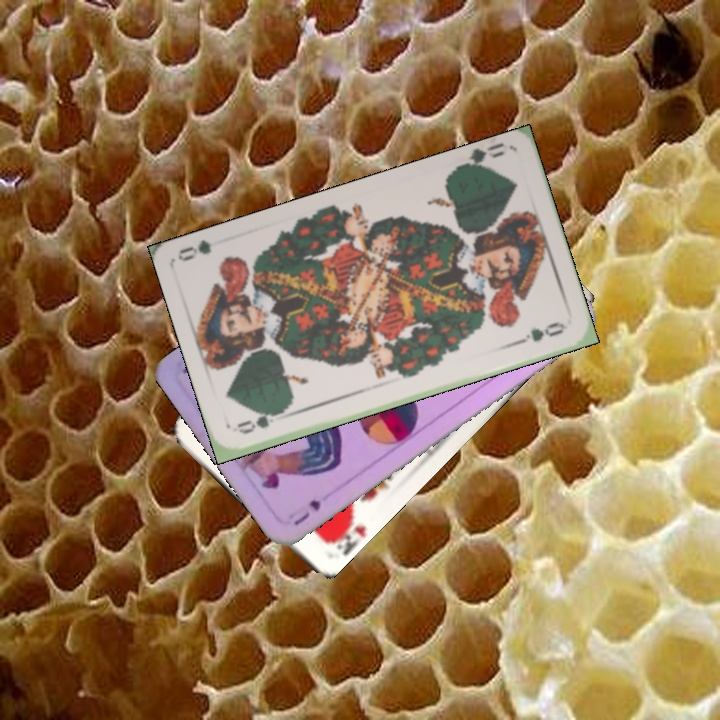GO: (453, 140, 508, 173), (233, 405, 288, 437)
HK: (320, 506, 361, 555)
SU: (284, 495, 324, 528)
